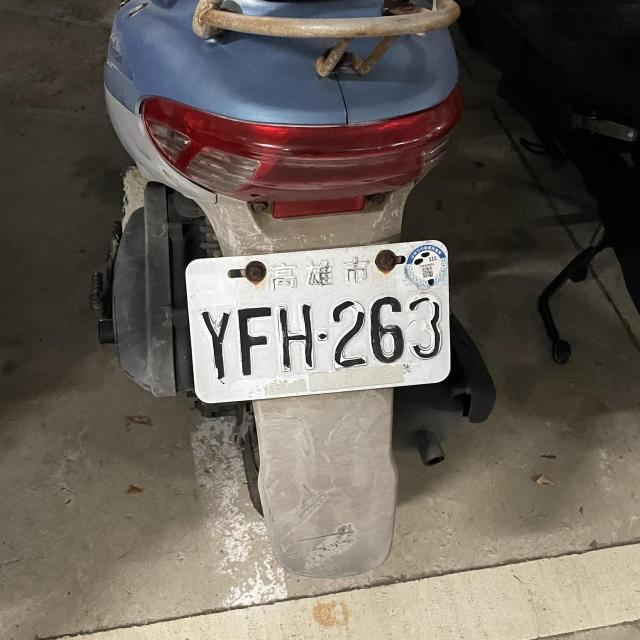W: (182, 240, 452, 397)
